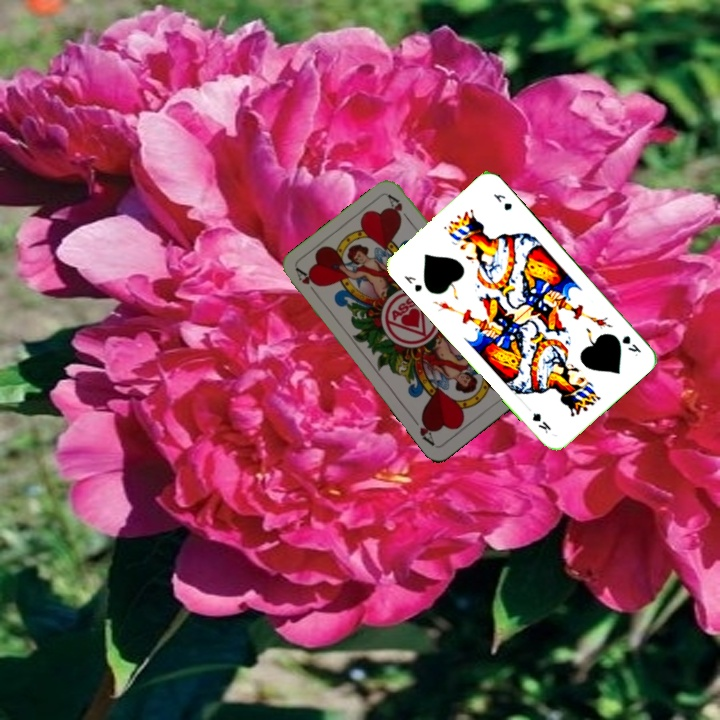GK: (618, 331, 644, 355), (400, 271, 425, 295)
HA: (292, 264, 322, 300)
